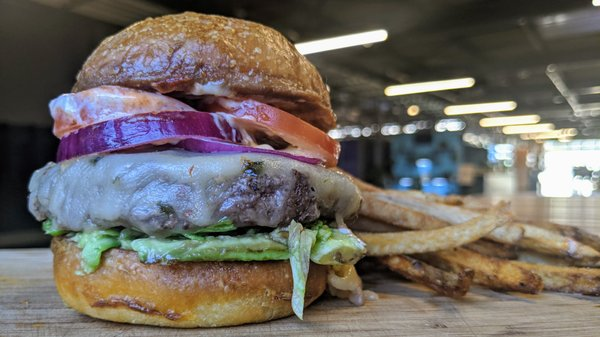soup: (28, 13, 369, 326)
